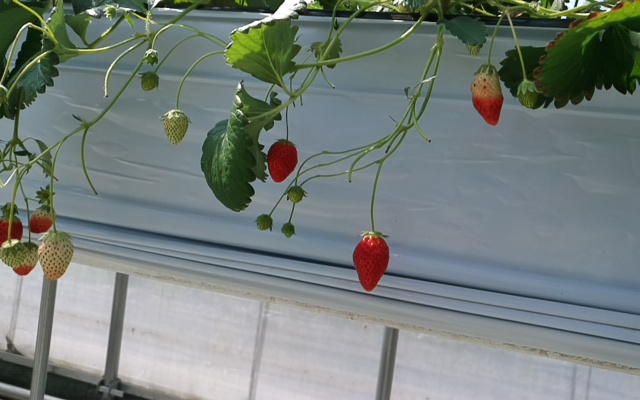GreenStrawberry: (468, 60, 507, 131), (36, 231, 76, 281), (159, 108, 190, 144), (12, 241, 40, 277), (1, 238, 26, 270), (515, 79, 539, 112), (138, 71, 161, 92)
MatureStrawberry: (351, 228, 390, 296), (265, 134, 299, 185), (1, 208, 29, 251), (27, 204, 63, 234)
